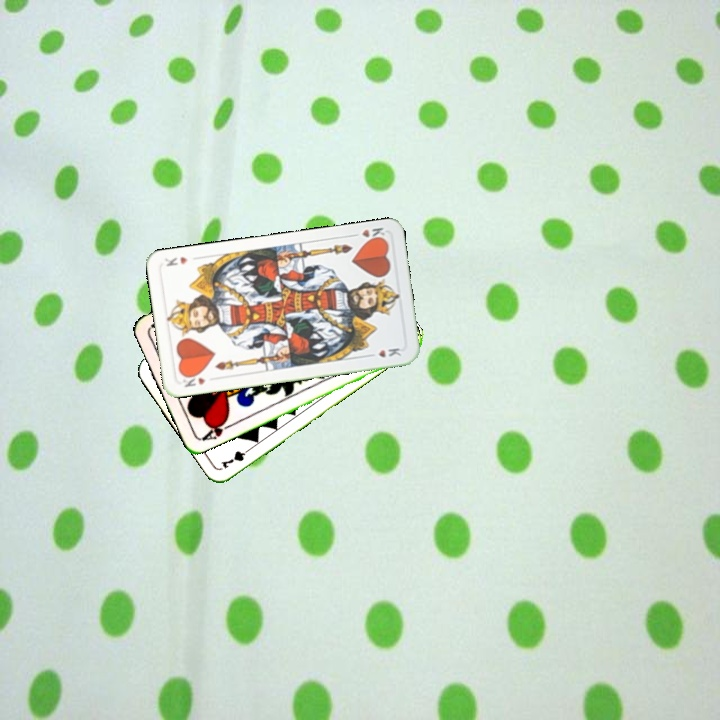G7: (217, 443, 255, 471)
HA: (198, 414, 236, 443)
HK: (347, 223, 387, 245), (178, 369, 208, 390)
